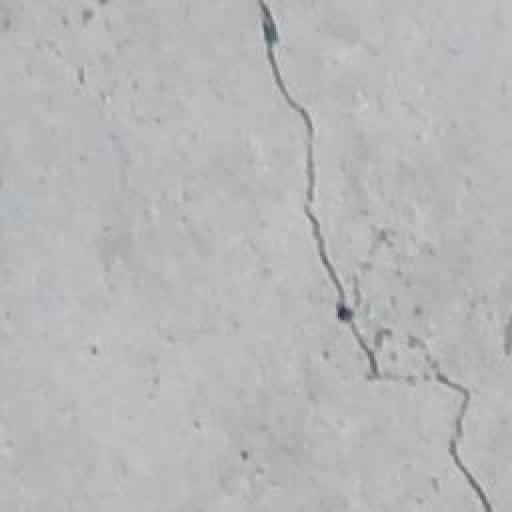spalling: (247, 9, 505, 504)
